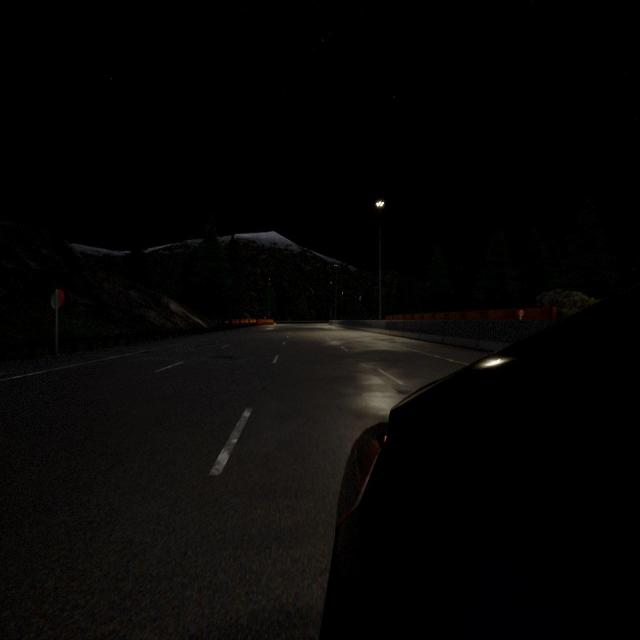Traffic_Signs: (51, 289, 64, 309), (518, 309, 524, 316)
Vehicle: (320, 286, 640, 638)
